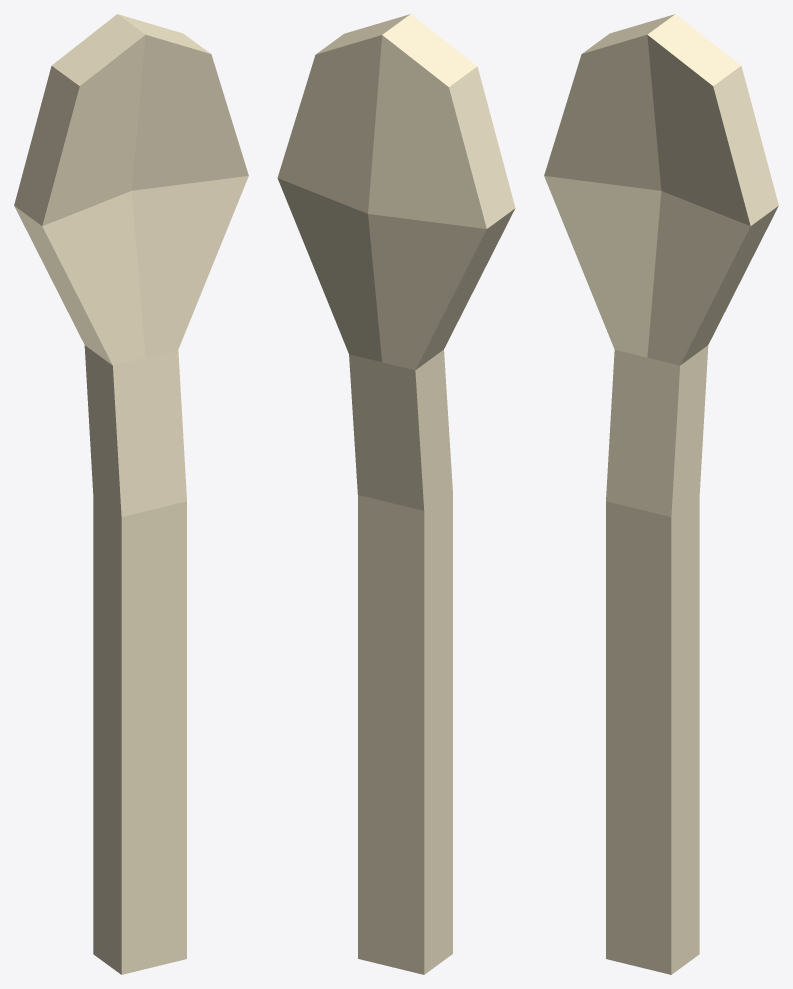
The model's file is spoon.obj.
3 renders of one model, left to right at view 1: azimuth 30°, elevation 25°; view 2: azimuth 150°, elevation 25°; view 3: azimuth 330°, elevation 25°, orthographic.
Visible parts, largest first — view 1: Cube.166_Cube.194_other_1; view 2: Cube.166_Cube.194_other_1; view 3: Cube.166_Cube.194_other_1.
Part boxes in pixels (x1,y1,x2,y2): Cube.166_Cube.194_other_1: [14, 14, 248, 974]; Cube.166_Cube.194_other_1: [277, 14, 515, 974]; Cube.166_Cube.194_other_1: [544, 14, 778, 974].
Bounding box in the file's own units: 0.00662 × 0.0284 × 0.00283.
